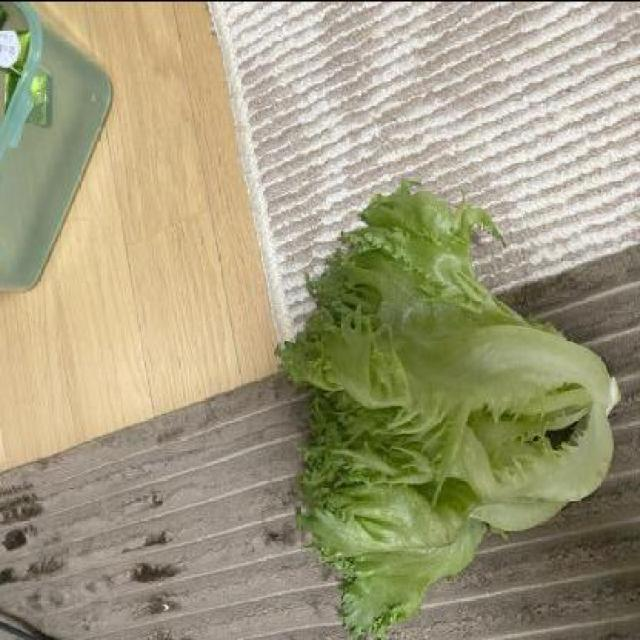Lettuce: (273, 171, 619, 638)
